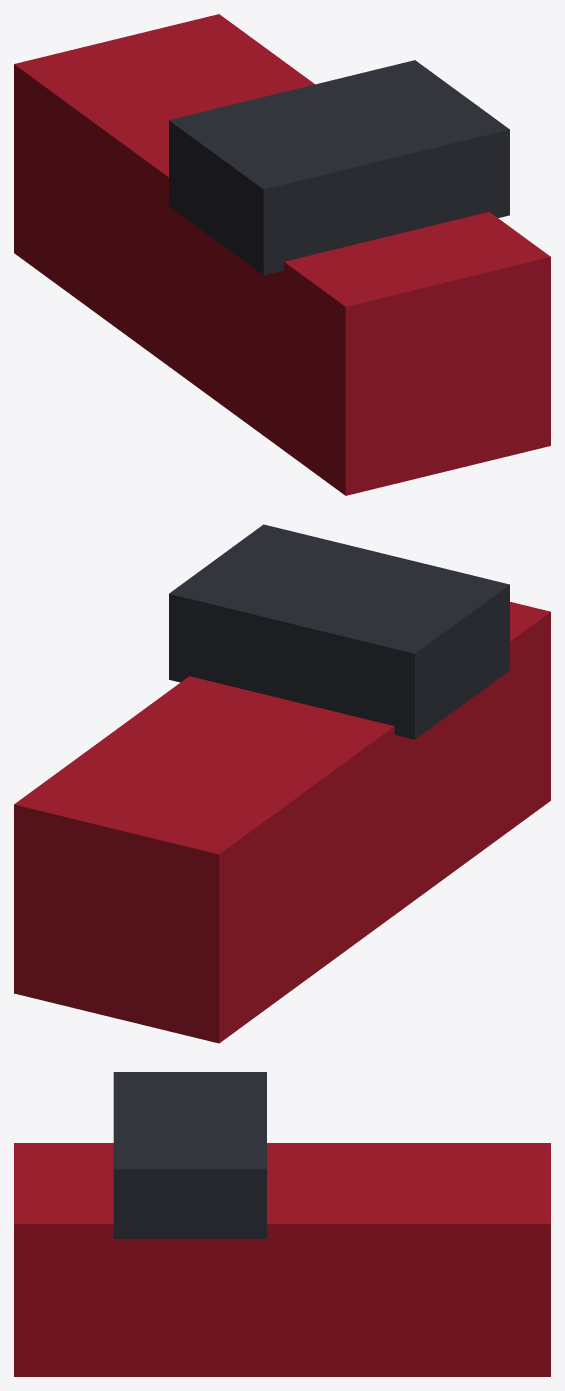
File: comms.glb
The picture shows the model from 3 angles, top to bottom: view 1: azimuth 30°, elevation 25°; view 2: azimuth 150°, elevation 25°; view 3: azimuth 270°, elevation 25°; orthographic projection. The views are drawn at different scales.
Parts seen in each view (by area): view 1: part_0, part_1; view 2: part_0, part_1; view 3: part_0, part_1.
Boxes of the visible parts, x1,y1,x2,y2 form: part_0: (14,14,550,495); part_1: (169,60,509,275); part_0: (14,602,550,1043); part_1: (169,524,509,739); part_0: (14,1143,550,1376); part_1: (113,1072,266,1238).
Bounding box in the file's own units: 0.3 × 0.31 × 0.7.
